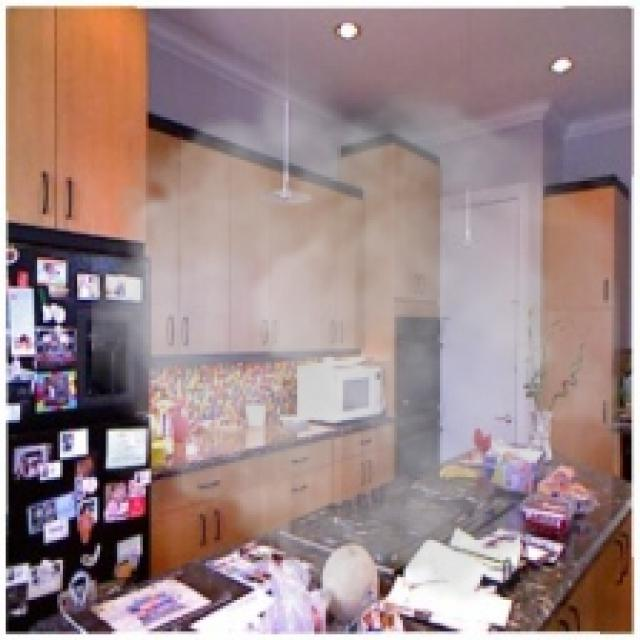smoke: (91, 54, 620, 620)
